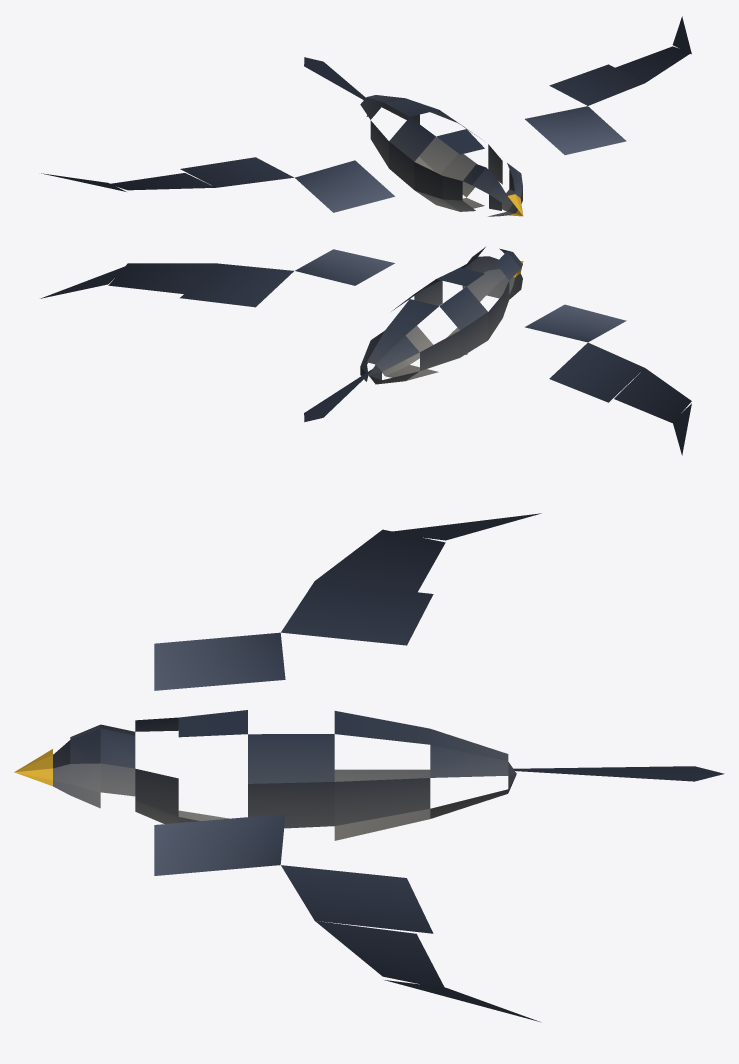
The model's file is falcon.glb.
3 renders of one model, top to bottom at view 1: azimuth 30°, elevation 25°; view 2: azimuth 150°, elevation 25°; view 3: azimuth 270°, elevation 25°, orthographic. The views are drawn at different scales.
Visible parts, largest first — view 1: falcon; view 2: falcon; view 3: falcon.
Boxes of the visible parts, x1,y1,x2,y2 form: falcon: [41, 16, 691, 216]; falcon: [40, 247, 691, 455]; falcon: [14, 513, 724, 1022].
Size of the model in its own units: 3.07 by 0.2876 by 1.64.
